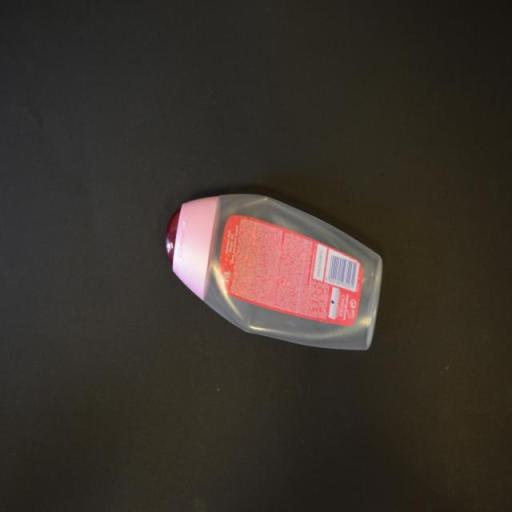plastic: (163, 191, 383, 353)
